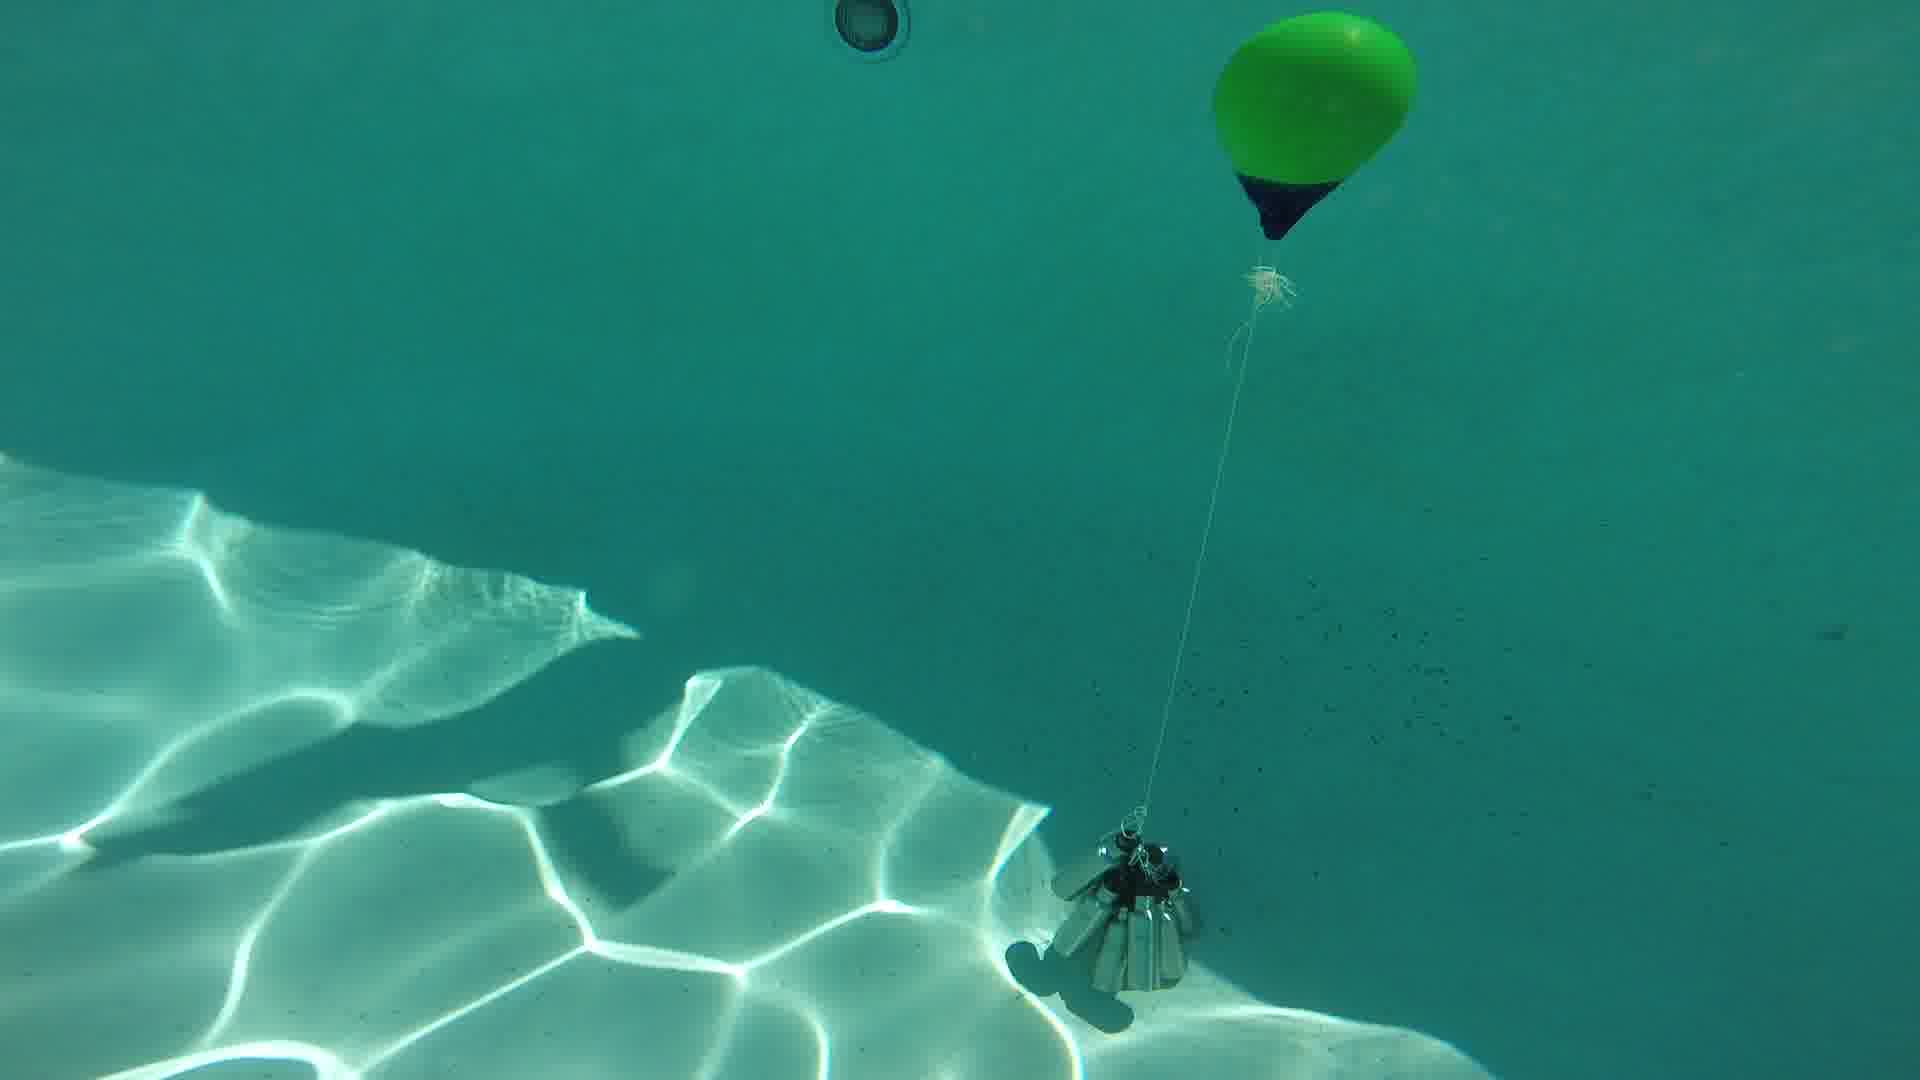yellow_buoy: (1211, 11, 1418, 237)
